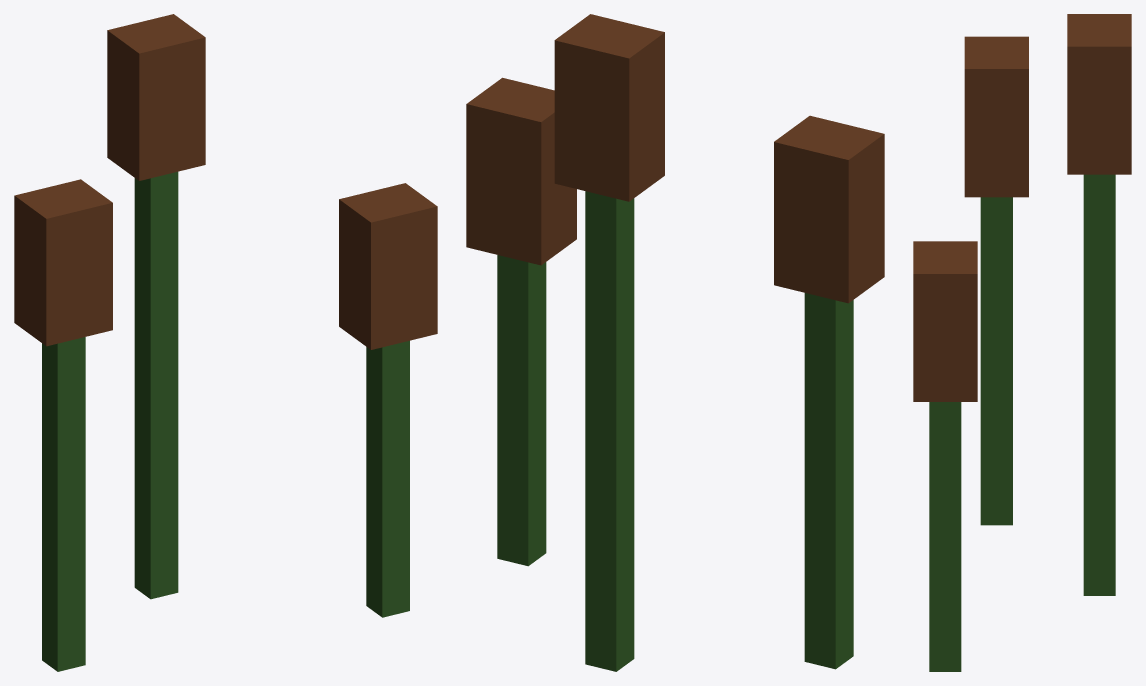
The model's file is Reeds.fbx.
3 views of the same model, side by side, from view 1: azimuth 30°, elevation 25°; view 2: azimuth 150°, elevation 25°; view 3: azimuth 270°, elevation 25° (orthographic). The views are drawn at different scales.
Visible parts, largest first — view 1: Reeds; view 2: Reeds; view 3: Reeds.
Part boxes in pixels (x1,y1,x2,y2): Reeds: (14,14,437,671); Reeds: (466,14,884,671); Reeds: (913,14,1131,671).
Size of the model in its own units: 33 by 48 by 17.
